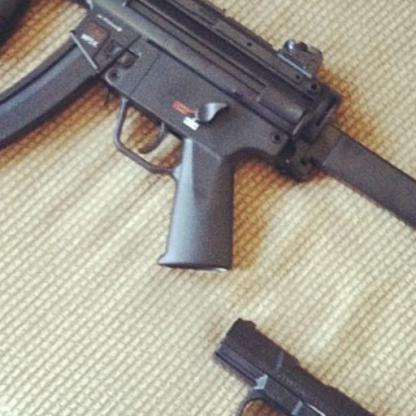gun: (210, 314, 416, 415)
